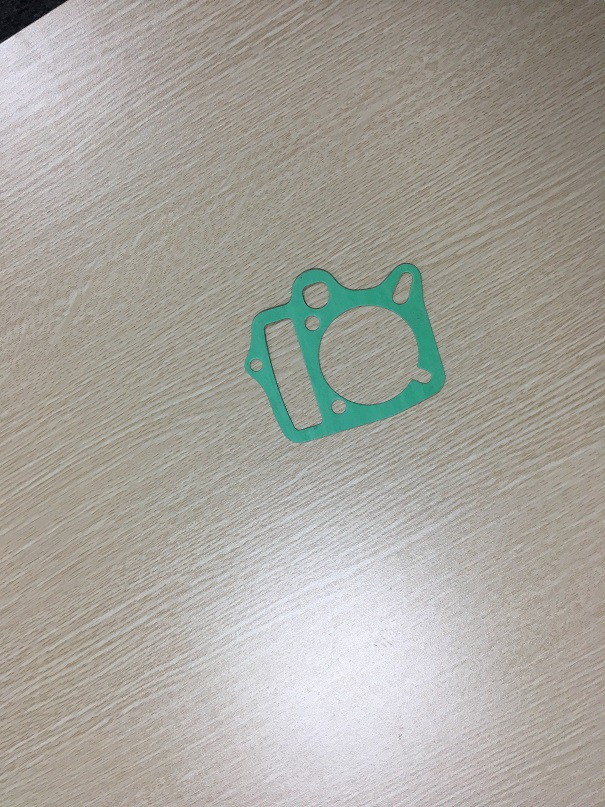type4: (232, 261, 461, 445)
